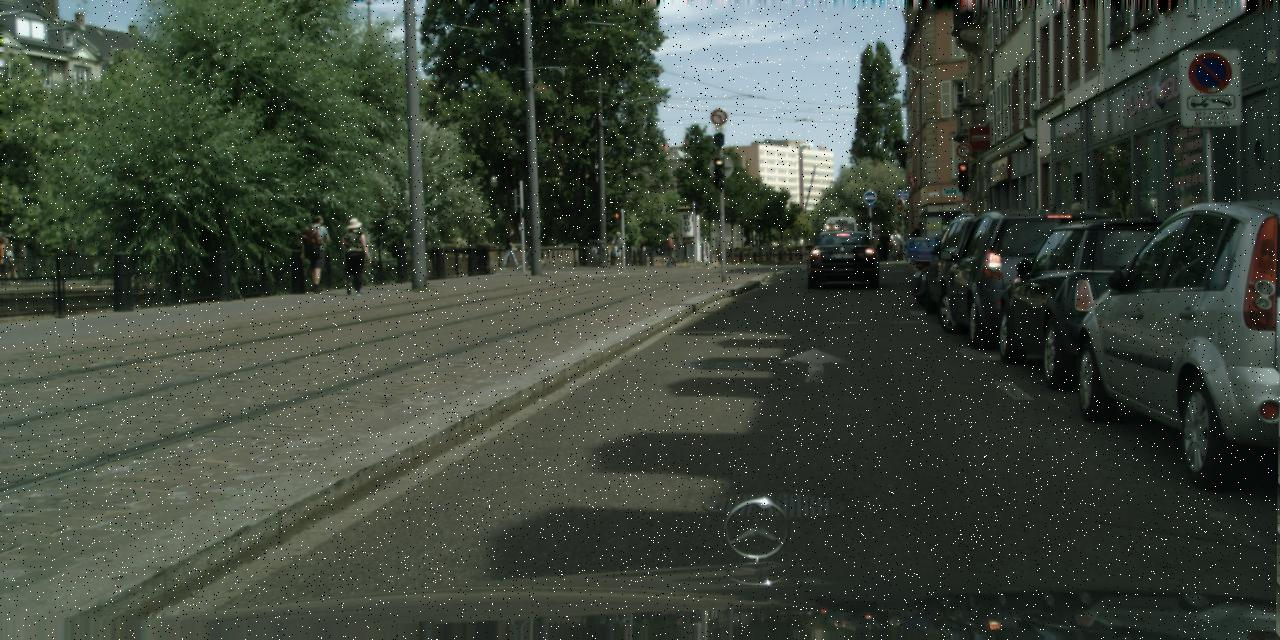ped: (1055, 202, 1101, 316), (301, 215, 333, 294), (337, 217, 369, 295), (502, 228, 518, 269), (908, 222, 924, 263), (0, 237, 13, 284), (524, 230, 540, 268), (3, 244, 18, 284), (610, 231, 624, 265), (664, 232, 678, 266), (878, 230, 890, 260), (890, 229, 899, 253)
